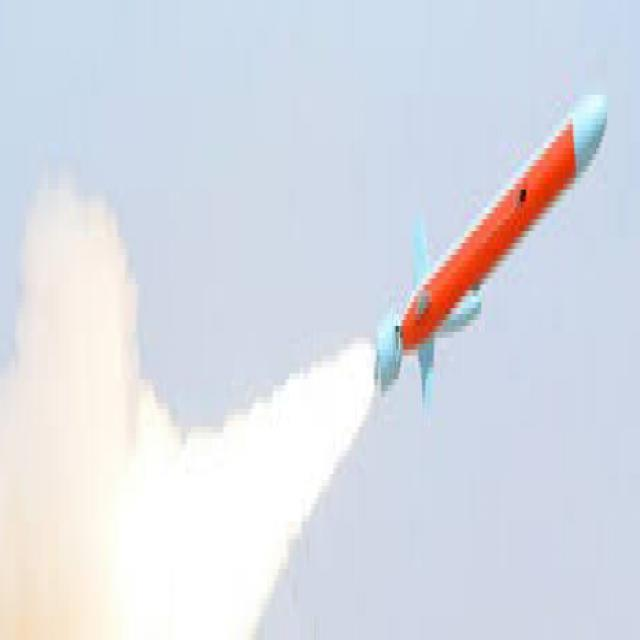missile: (376, 83, 620, 404)
